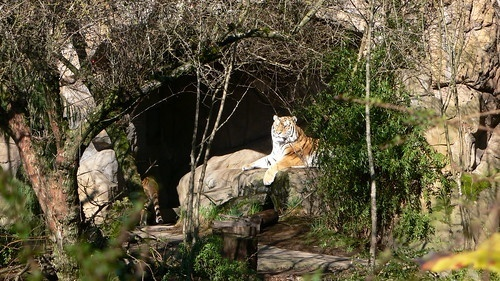tigre: (246, 114, 340, 185)
